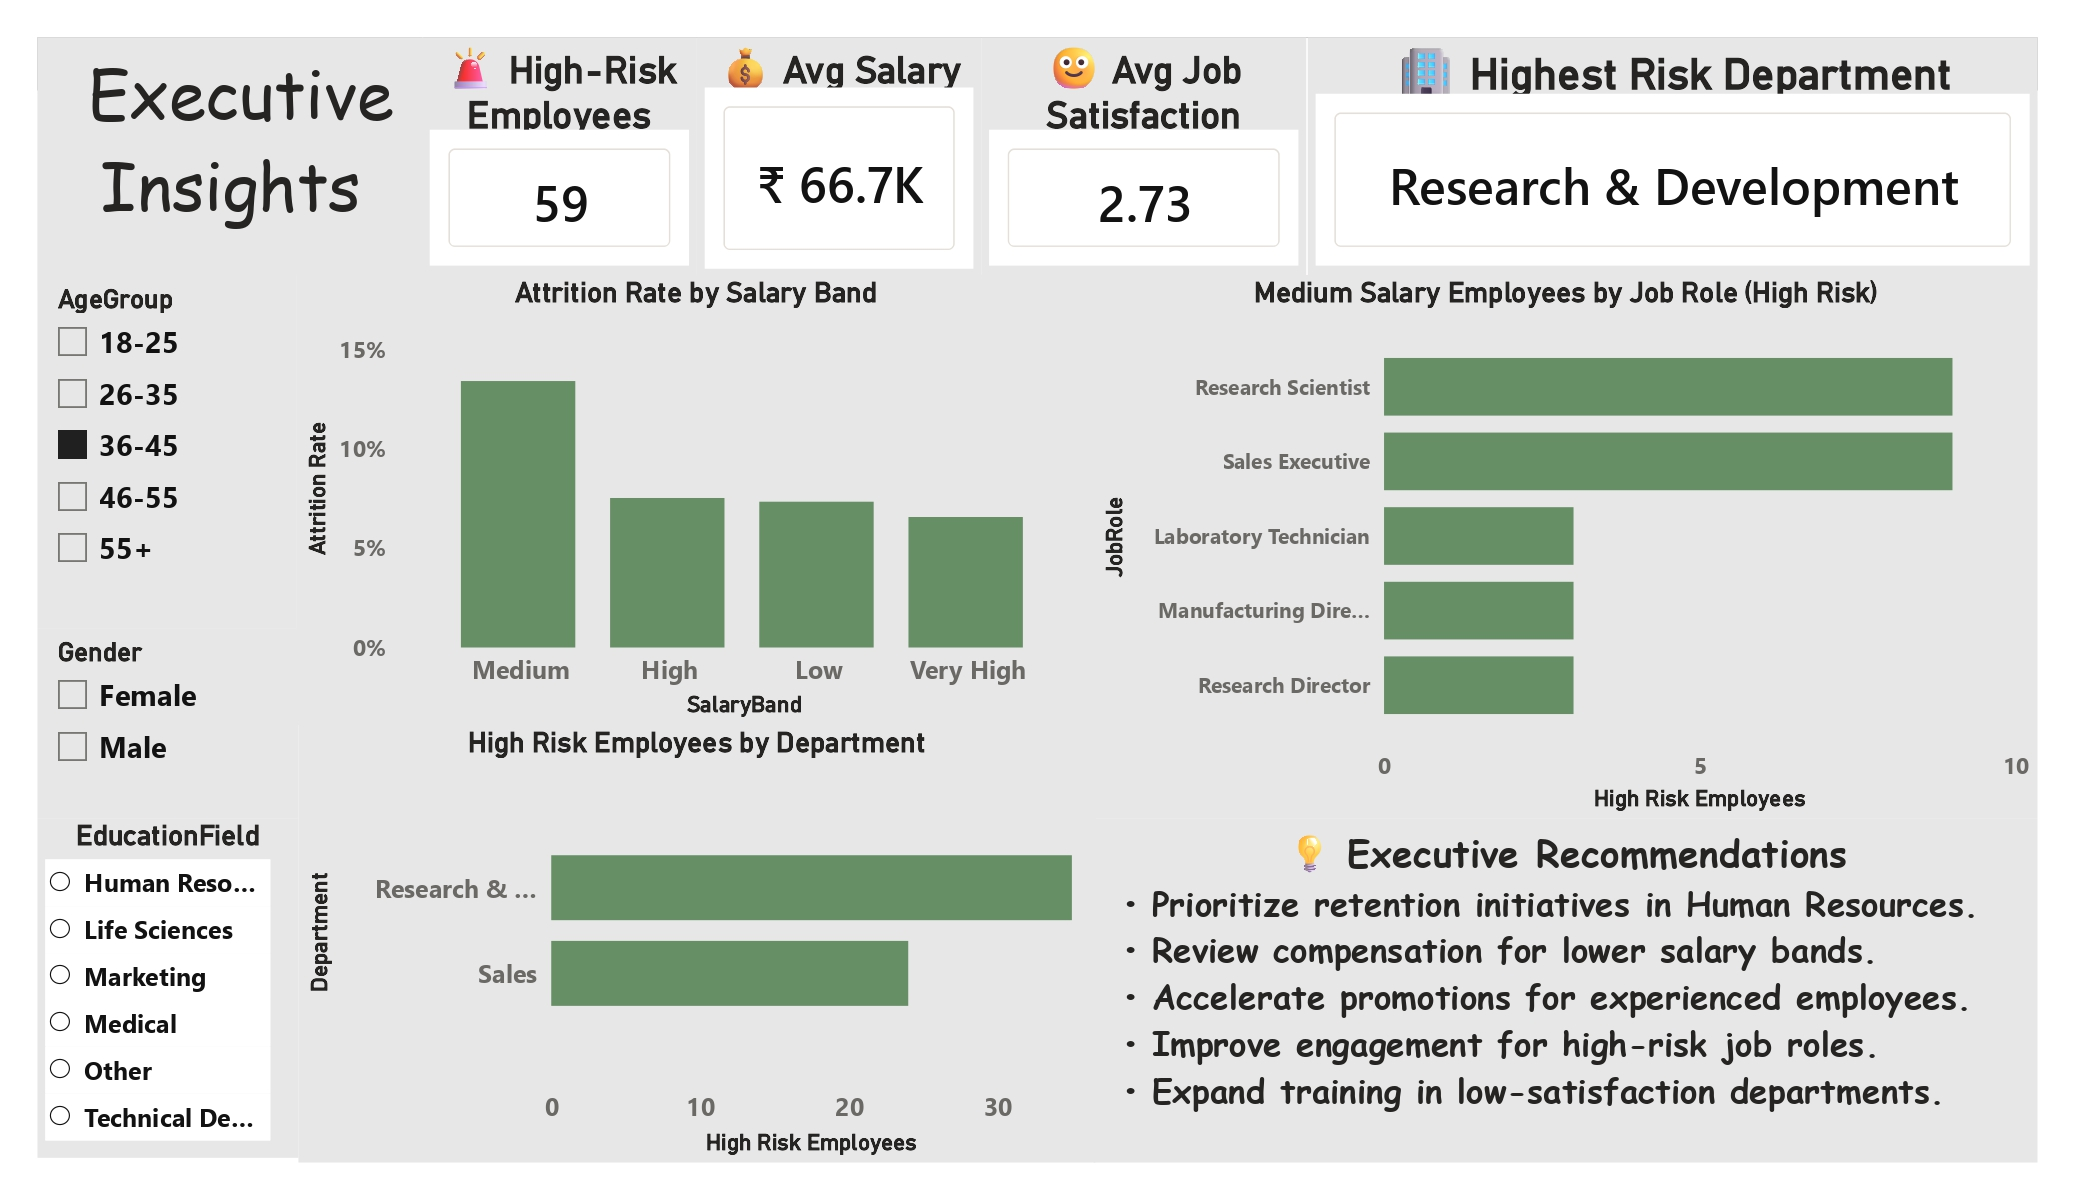

The page's visual inventory and layout, read from the dashboard file:
{"tool":"powerbi","page":{"name":"Executive Insights","canvas":[1280,720],"ordinal":3},"visuals":[{"type":"cardVisual","title":"🚨 High-Risk Employees","fields":{"Data":["HR_Analytics_Cleaned.High Risk Employees"]},"box":[245.6,0,176.7,152.2],"z":0},{"type":"textbox","box":[0,0,246.7,151.7],"z":1000},{"type":"cardVisual","title":"💰 Avg Salary","fields":{"Data":["HR_Analytics_Cleaned.Average Monthly Income"]},"box":[422.2,0,182.2,154.4],"z":2000},{"type":"cardVisual","title":"🙂   Avg Job Satisfaction","fields":{"Data":["HR_Analytics_Cleaned.Average Job Satisfaction"]},"box":[604.4,0,207.8,152.2],"z":3000},{"type":"cardVisual","title":"🏢 Highest Risk Department","fields":{"Data":["HR_Analytics_Cleaned.\\\\Highest Risk Department"]},"box":[813.3,0,466.7,151.7],"z":4000},{"type":"clusteredBarChart","fields":{"Category":["HR_Analytics_Cleaned.Department"],"Y":["HR_Analytics_Cleaned.High Risk Employees"]},"box":[166.7,440,510,280],"z":5000},{"type":"clusteredColumnChart","title":"Attrition Rate by Salary Band","fields":{"Category":["HR_Analytics_Cleaned.SalaryBand"],"Y":["HR_Analytics_Cleaned.Attrition Rate"]},"box":[166.2,151.5,510.8,288.5],"z":6000},{"type":"clusteredBarChart","title":"Medium Salary Employees by Job Role (High Risk)","fields":{"Category":["HR_Analytics_Cleaned.JobRole"],"Y":["HR_Analytics_Cleaned.High Risk Employees"]},"box":[675.6,152.2,604.4,347.8],"z":7000},{"type":"textbox","box":[676.4,500,603.6,220],"z":8000},{"type":"slicer","fields":{"Values":["HR_Analytics_Cleaned.AgeGroup"]},"box":[0,151.5,166.2,226.9],"z":9000},{"type":"slicer","fields":{"Values":["HR_Analytics_Cleaned.Gender"]},"box":[0,378.3,166.7,121.7],"z":10000},{"type":"listSlicer","fields":{"Values":["HR_Analytics_Cleaned.EducationField"]},"box":[0,500,166.7,216.7],"z":11000}]}

Visuals, with their boxes on the page's 1280x720 design canvas (x1, y1, x2, y2). These are canvas units, not pixel positions in the 2075x1200 screenshot, which may show the page scaled, cropped or inside an application window:
"🚨 High-Risk Employees" cardVisual: [246,0,422,152]
textbox: [0,0,247,152]
"💰 Avg Salary" cardVisual: [422,0,604,154]
"🙂   Avg Job Satisfaction" cardVisual: [604,0,812,152]
"🏢 Highest Risk Department" cardVisual: [813,0,1280,152]
clusteredBarChart - HR_Analytics_Cleaned.Department x HR_Analytics_Cleaned.High Risk Employees: [167,440,677,720]
"Attrition Rate by Salary Band" clusteredColumnChart: [166,152,677,440]
"Medium Salary Employees by Job Role (High Risk)" clusteredBarChart: [676,152,1280,500]
textbox: [676,500,1280,720]
slicer - HR_Analytics_Cleaned.AgeGroup: [0,152,166,378]
slicer - HR_Analytics_Cleaned.Gender: [0,378,167,500]
listSlicer - HR_Analytics_Cleaned.EducationField: [0,500,167,717]
